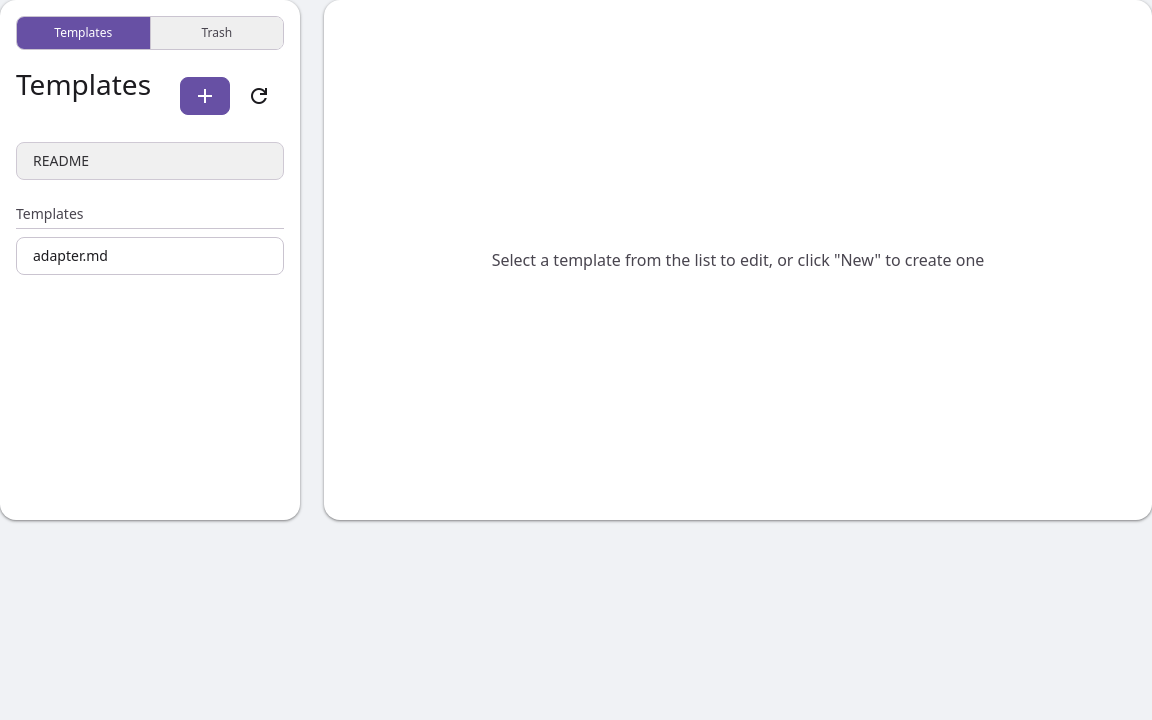
Test: TemplateEditorTab › loads prompt templates and opens selected prompt content
Click the text "adapter.md".
click(70, 256)  # box [33,246,108,265]
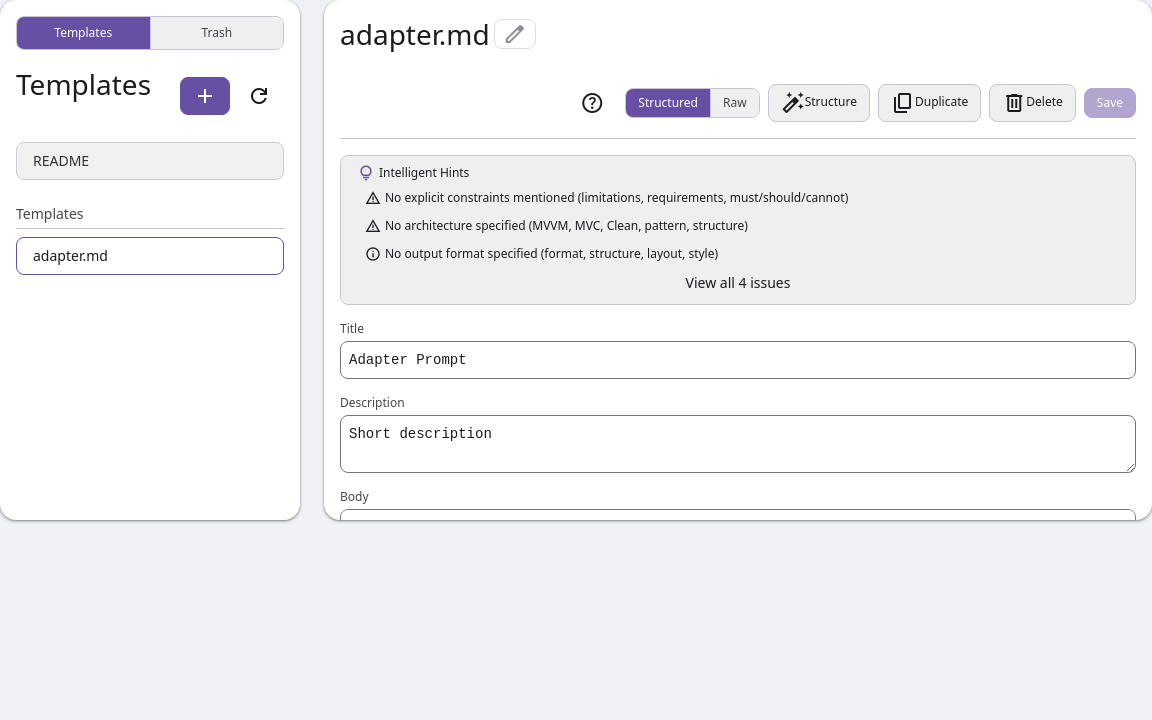
expect the field showing "Adapter Prompt" is shown: met, box [340,341,1136,379]
expect the text box showing "Use adapters carefully." below "Body" is shown: met, box [340,509,1136,520]
